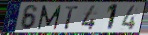1: (106, 3, 119, 33)
4: (120, 4, 137, 31), (80, 5, 97, 31)
6: (19, 4, 40, 32)
M: (36, 4, 63, 31)
T: (64, 5, 79, 30)
